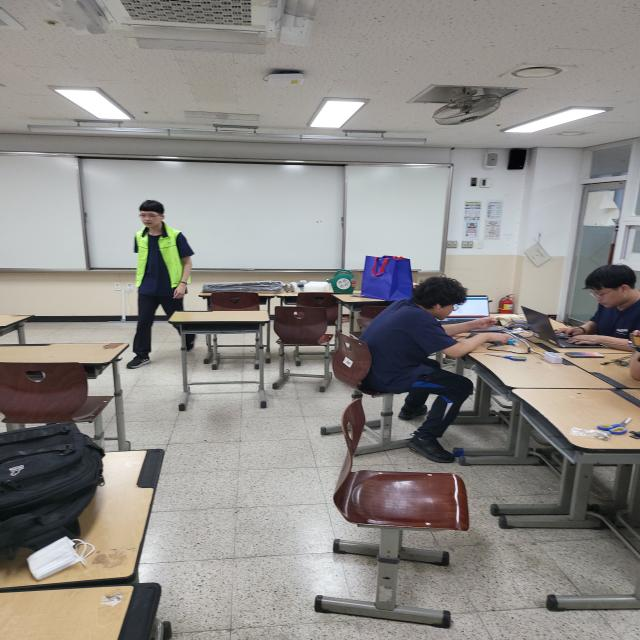weston_spy: (126, 230, 200, 300)
